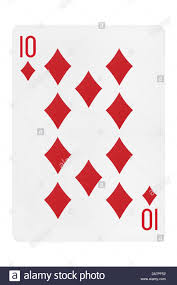ten of diamonds: (11, 26, 163, 241)
